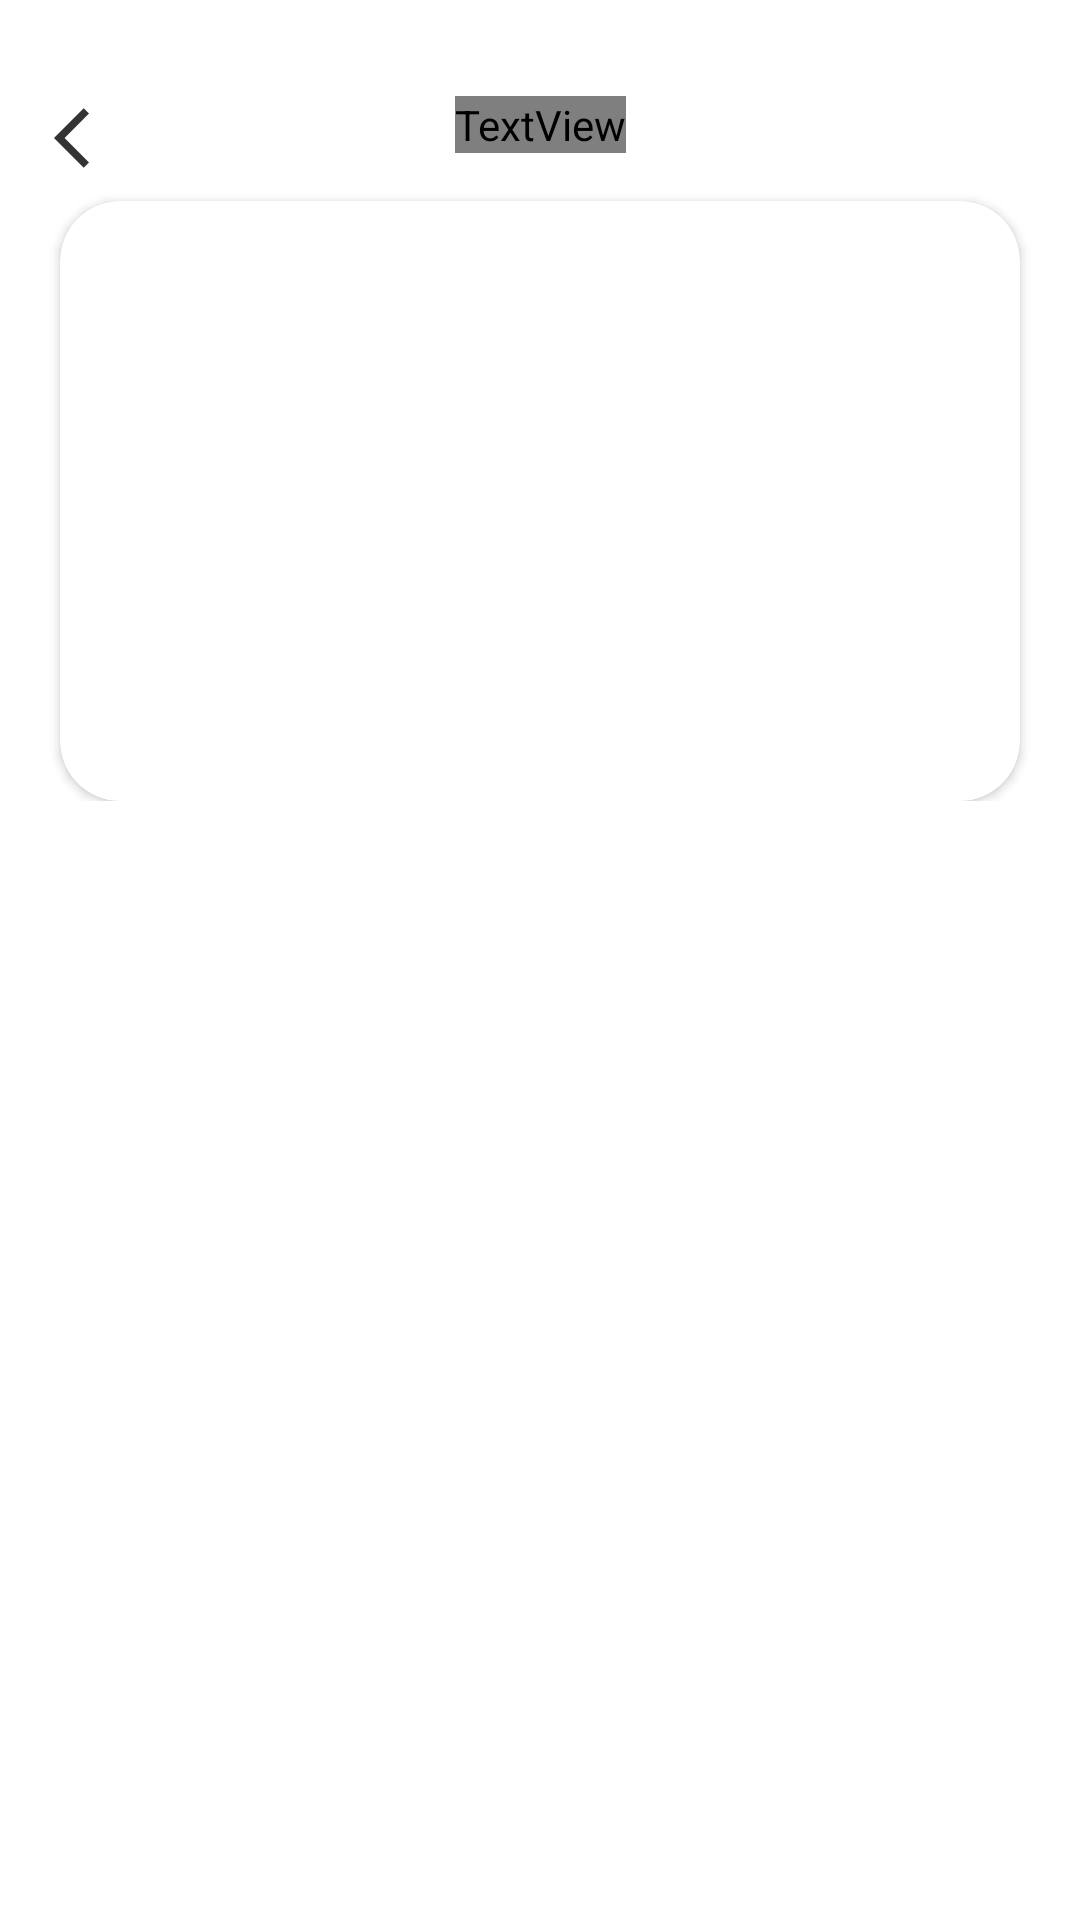

Icons on this 1080px×1920px Android screen, each with its box as rect(x1, y1, x2, y2):
arrow back: rect(54, 108, 89, 168)
